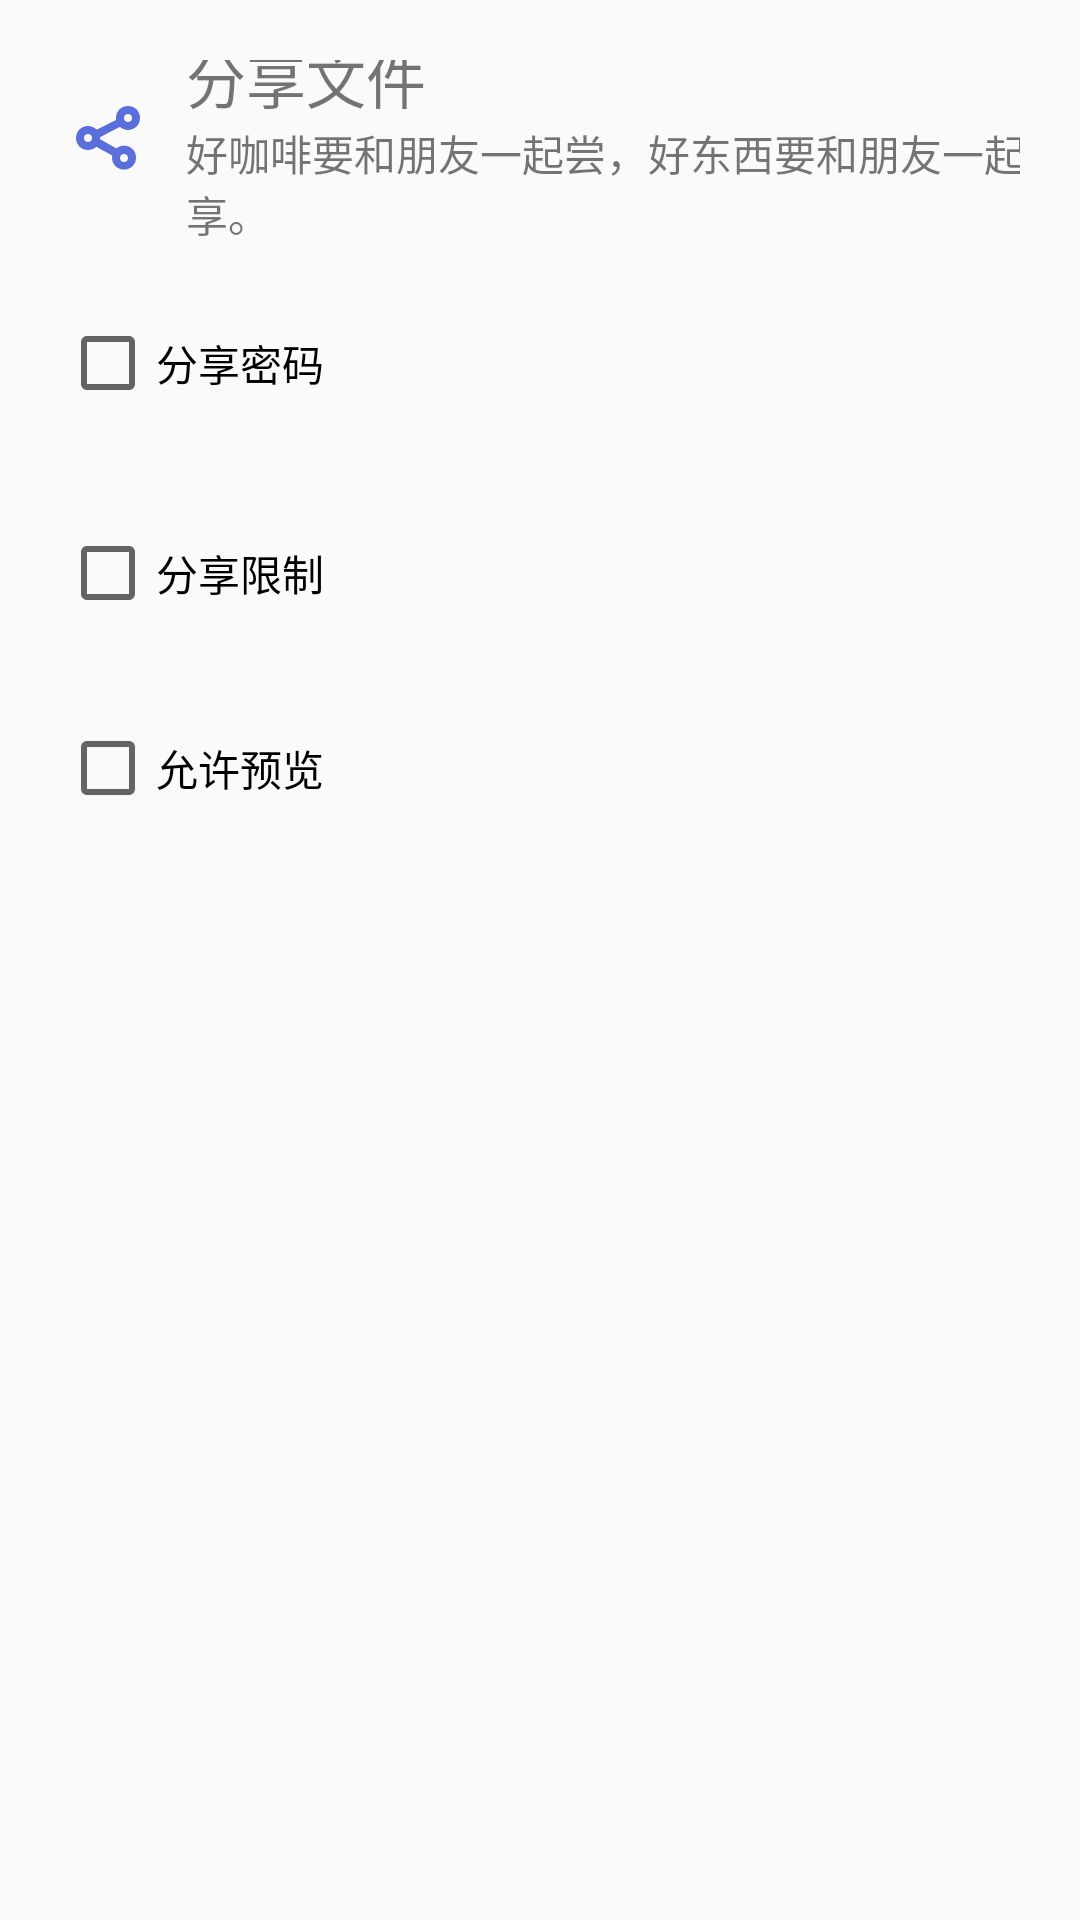

Icon bounding boxes for this 1080×1920 phone screenshot, format box(x1, y1, x2, y2):
share: box(76, 106, 140, 170)
